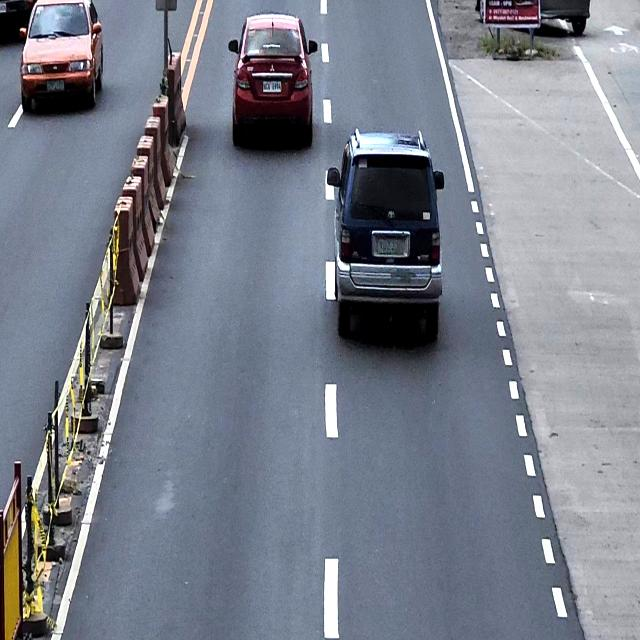Car: (228, 12, 318, 146), (19, 0, 104, 112), (475, 0, 591, 36)
Jeep: (324, 127, 445, 339)
License-Plate: (376, 237, 405, 257), (262, 79, 282, 93), (46, 79, 65, 91)
